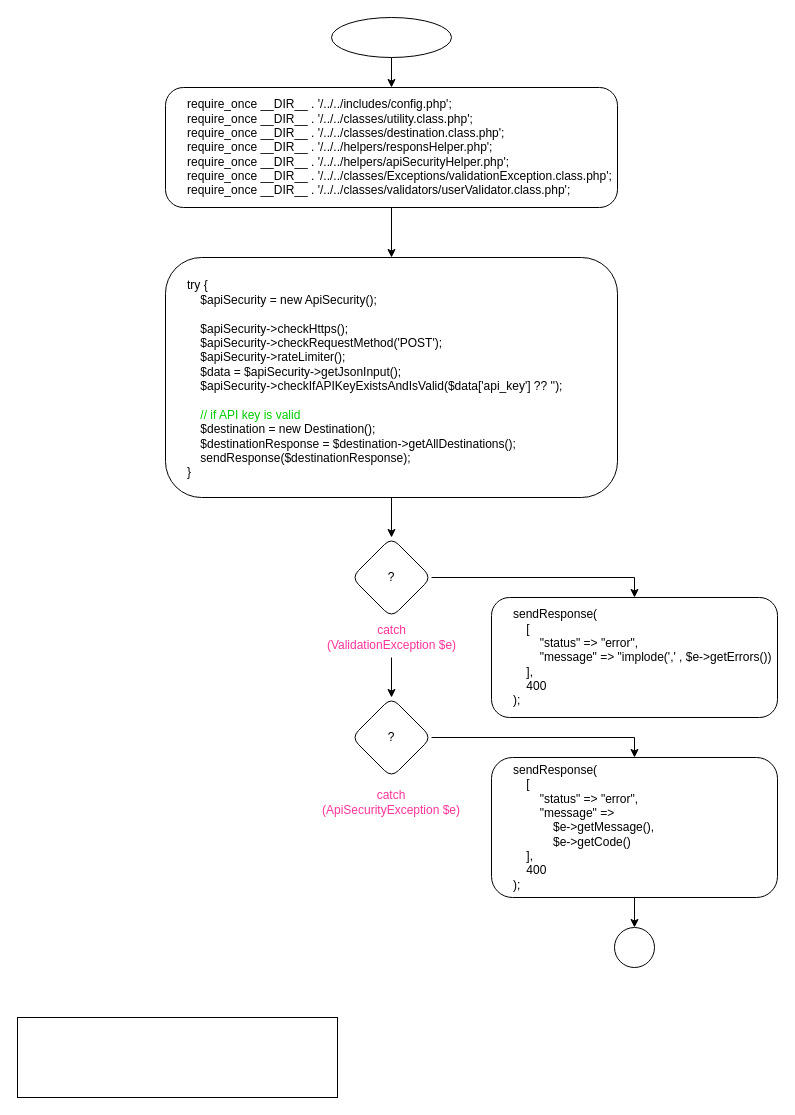
Image size: 795x1115. Some labels were removed from this diagram. Each missing label, with the box of its shape:
<?php: (330, 16, 452, 58)
exit;: (614, 926, 654, 968)
Filename: \endpoints\locations\destinationList.php Last Update: 19-03-2025: (16, 1016, 338, 1098)
